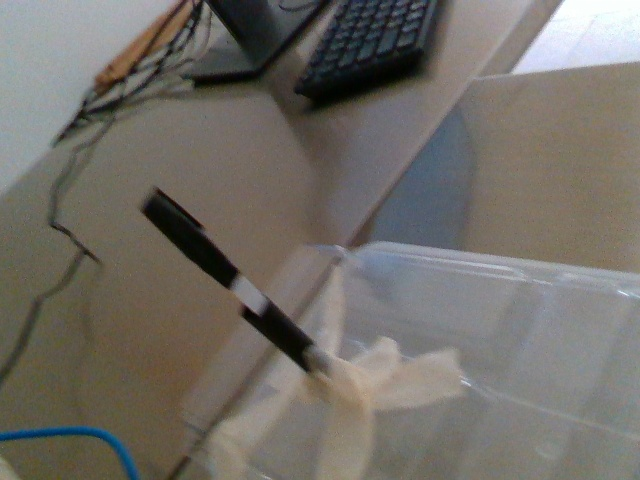test_strip: (138, 185, 271, 320)
